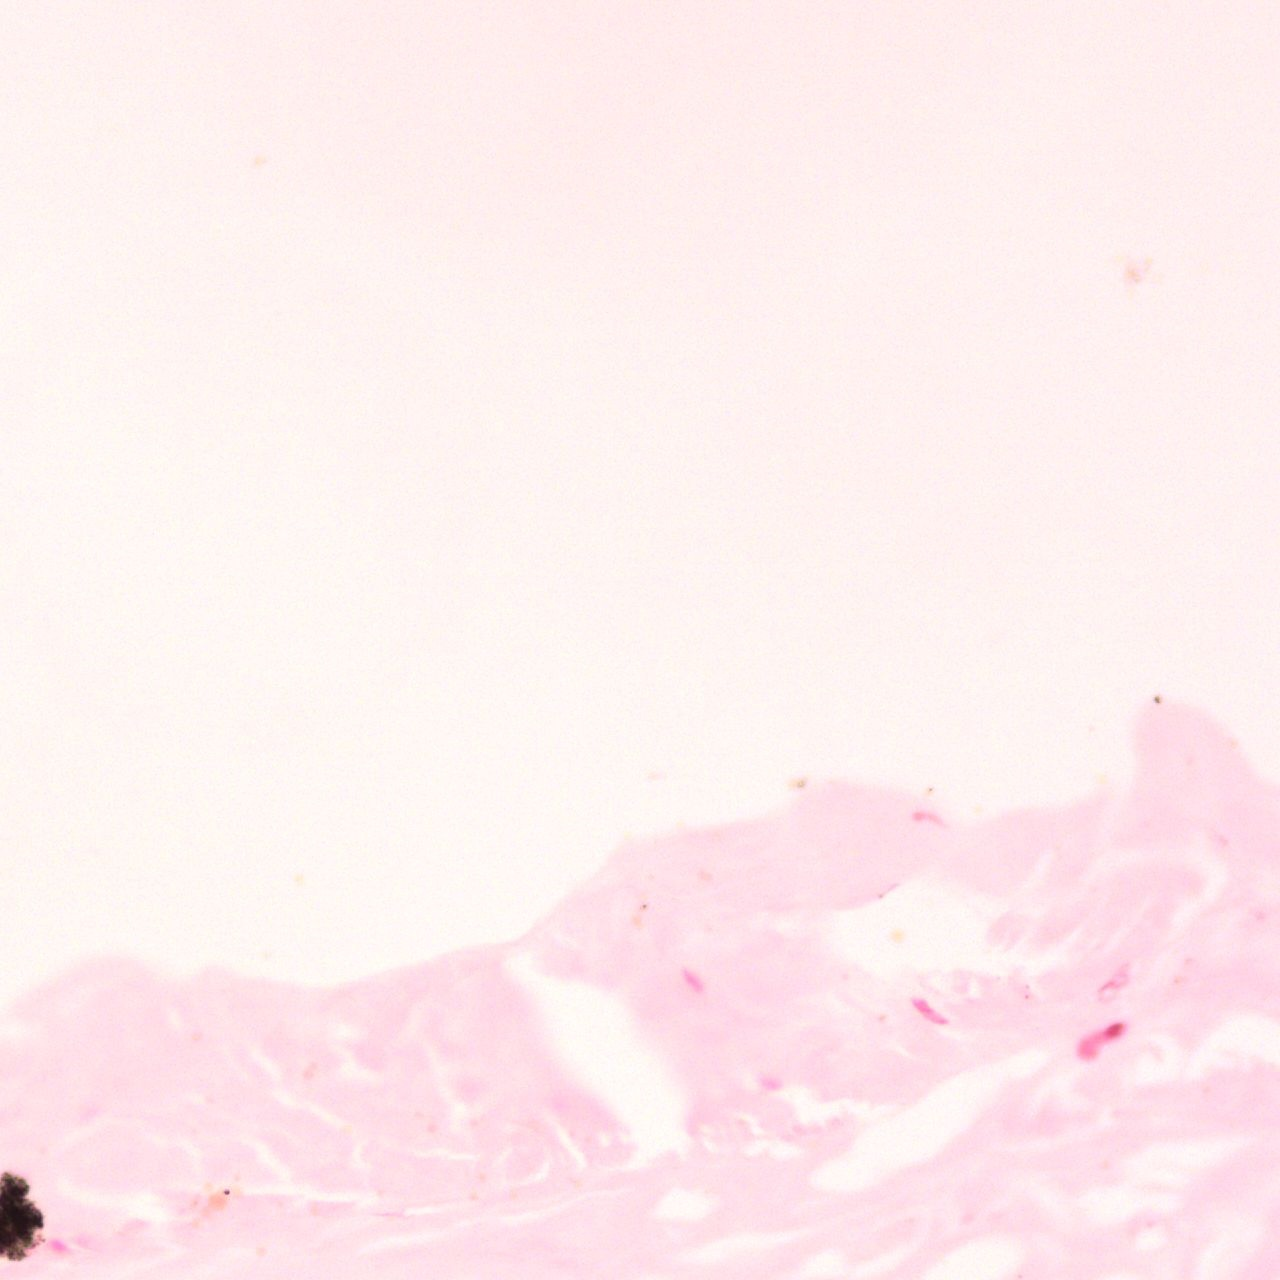dust: (1153, 695, 1162, 703), (222, 1189, 231, 1196), (797, 780, 805, 787), (641, 904, 647, 909), (878, 893, 884, 898), (1024, 994, 1029, 999), (1025, 984, 1030, 989), (927, 787, 933, 791)
nucleus-AC: (1071, 1014, 1131, 1065), (906, 992, 954, 1033), (679, 963, 708, 997), (46, 1237, 71, 1257)
